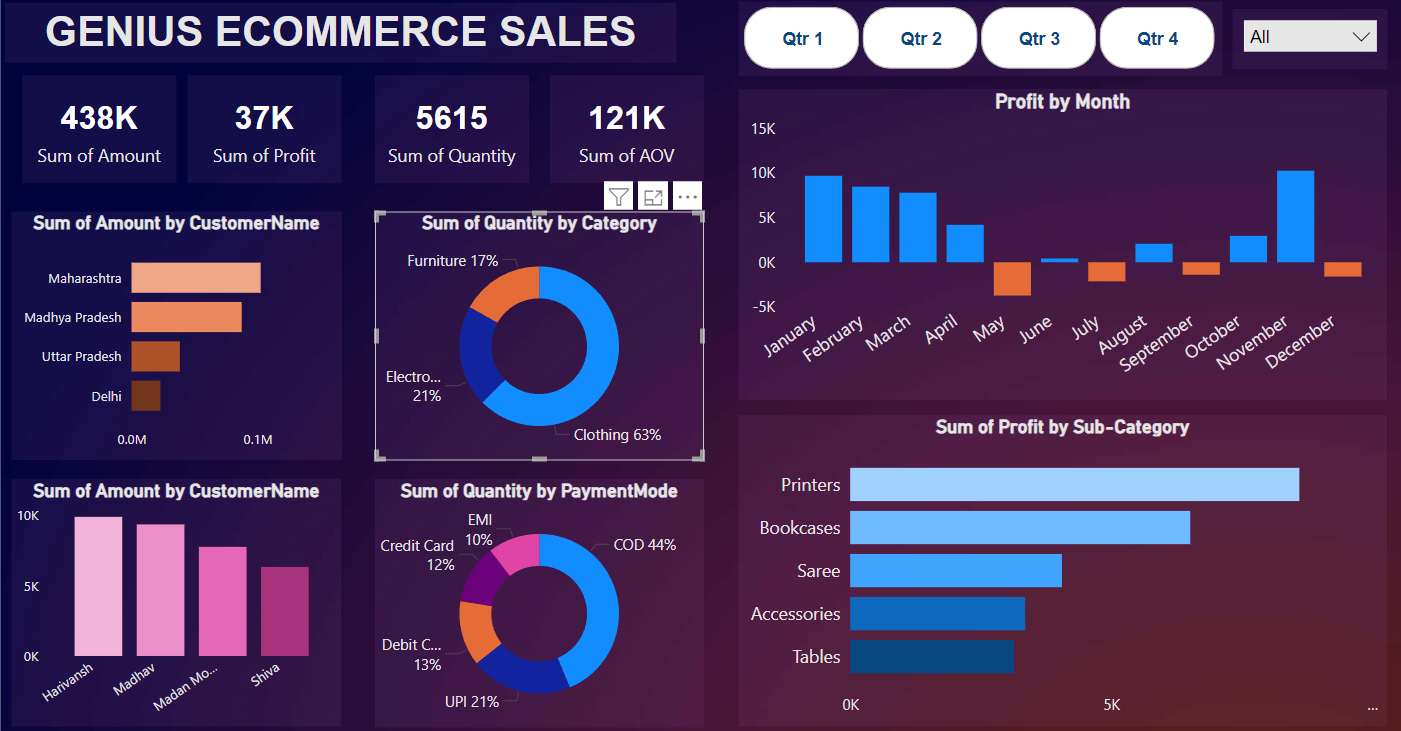

What the dashboard file says about the page in this screenshot:
{"tool":"powerbi","page":{"name":"Page 1","canvas":[1280,720],"ordinal":0},"visuals":[{"type":"image","box":[0,0,1280.2,719.8],"z":0},{"type":"textbox","box":[9.6,30,607.6,54],"z":1000},{"type":"columnChart","title":"Profit by Month","fields":{"Y":["Details.Profit"],"Category":["Orders.Order Date.Variation.Date Hierarchy.Month"]},"box":[672.8,109,586.1,281.3],"z":2000},{"type":"barChart","title":"Sum of Profit by Sub-Category","fields":{"Category":["Details.Sub-Category"],"Y":["Details.Profit"]},"box":[672.8,403.9,586.1,281.3],"z":3000},{"type":"columnChart","title":"Sum of Amount by CustomerName","fields":{"Y":["Details.Amount"],"Category":["Orders.CustomerName"]},"box":[14.9,460.9,298.6,224.3],"z":4000},{"type":"donutChart","title":"Sum of Quantity by PaymentMode","fields":{"Category":["Details.PaymentMode"],"Y":["Details.Quantity"]},"box":[343.3,461.7,297.4,224.9],"z":5000},{"type":"donutChart","title":"Sum of Quantity by Category","fields":{"Category":["Details.Category"],"Y":["Details.Quantity"]},"box":[343.3,219,297.4,224.9],"z":6000},{"type":"clusteredBarChart","title":"Sum of Amount by CustomerName","fields":{"Category":["Orders.State"],"Y":["Details.Amount"]},"box":[14.8,219,298.9,224.9],"z":7000},{"type":"card","title":"Sum of Amount by CustomerName","fields":{"Values":["Details.Amount"]},"box":[25.2,96.2,139.1,97.7],"z":8000},{"type":"card","title":"Sum of Amount by CustomerName","fields":{"Values":["Details.Profit"]},"box":[174.6,96.2,139.1,97.7],"z":9000},{"type":"card","title":"Sum of Amount by CustomerName","fields":{"Values":["Details.AOV"]},"box":[501.6,96.2,139.1,97.7],"z":10000},{"type":"card","title":"Sum of Amount by CustomerName","fields":{"Values":["Details.Quantity"]},"box":[343.3,96.2,139.1,97.7],"z":11000},{"type":"advancedSlicerVisual","fields":{"Values":["Orders.Order Date.Variation.Date Hierarchy.Quarter"]},"box":[672.8,29.7,437.4,66.9],"z":12000},{"type":"slicer","fields":{"Values":["Orders.State"]},"box":[1118.9,35.9,140,54.5],"z":13000}]}

Visuals, with their boxes on the page's 1280x720 design canvas (x1, y1, x2, y2). These are canvas units, not pixel positions in the 1401x731 screenshot, which may show the page scaled, cropped or inside an application window:
image: [0, 0, 1280, 720]
textbox: [10, 30, 617, 84]
"Profit by Month" columnChart: [673, 109, 1259, 390]
"Sum of Profit by Sub-Category" barChart: [673, 404, 1259, 685]
"Sum of Amount by CustomerName" columnChart: [15, 461, 314, 685]
"Sum of Quantity by PaymentMode" donutChart: [343, 462, 641, 687]
"Sum of Quantity by Category" donutChart: [343, 219, 641, 444]
"Sum of Amount by CustomerName" clusteredBarChart: [15, 219, 314, 444]
"Sum of Amount by CustomerName" card: [25, 96, 164, 194]
"Sum of Amount by CustomerName" card: [175, 96, 314, 194]
"Sum of Amount by CustomerName" card: [502, 96, 641, 194]
"Sum of Amount by CustomerName" card: [343, 96, 482, 194]
advancedSlicerVisual - Orders.Order Date.Variation.Date Hierarchy.Quarter: [673, 30, 1110, 97]
slicer - Orders.State: [1119, 36, 1259, 90]
